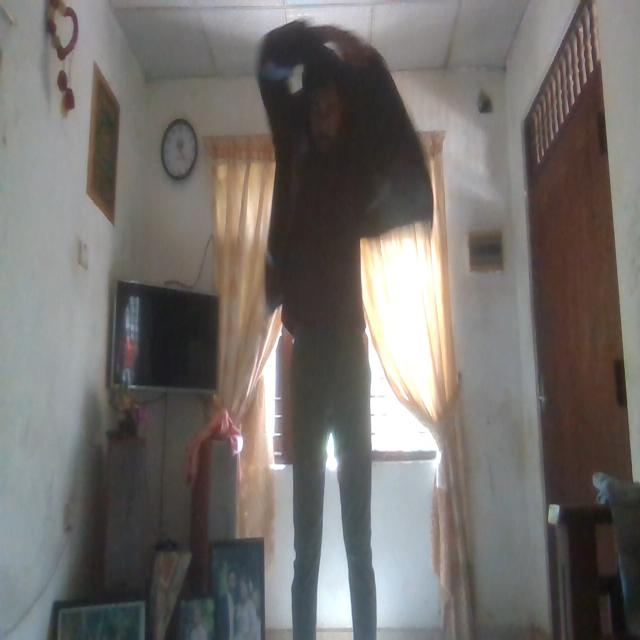Jacket_Wearer: (240, 24, 430, 328)
Person: (261, 55, 392, 640)
